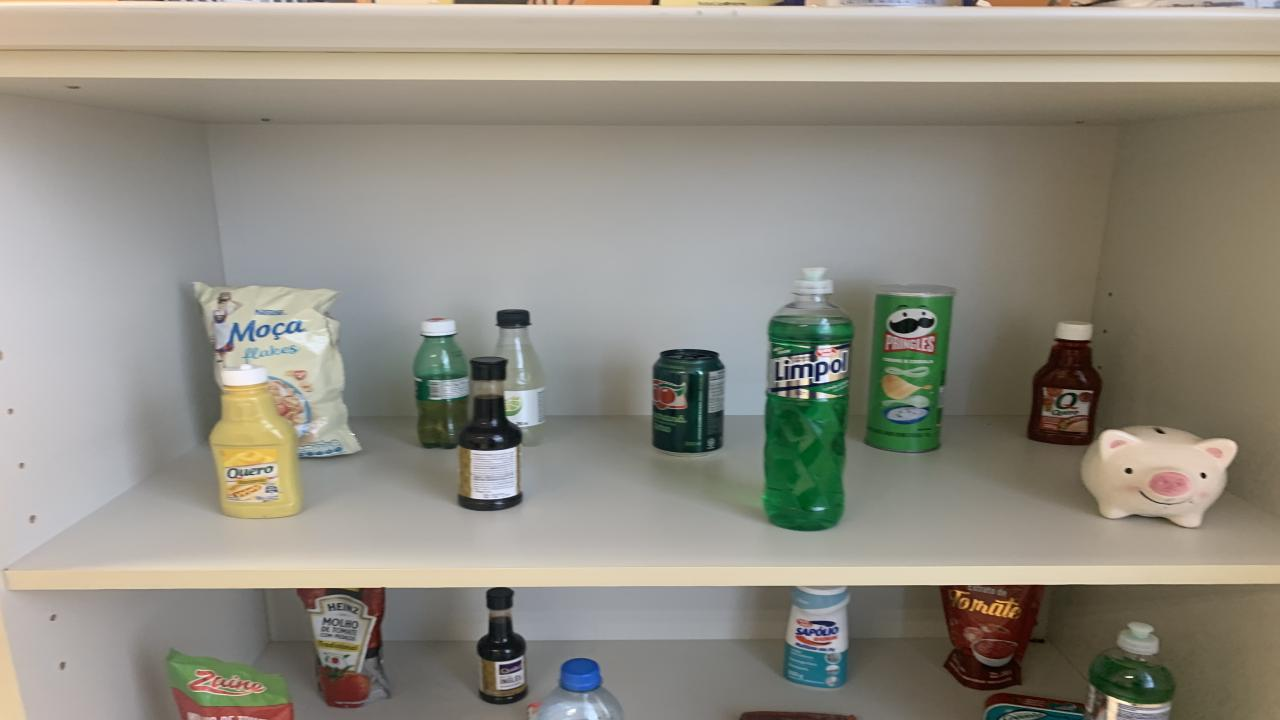Cleaner-Cleanup_Items: (785, 587, 850, 688)
Detergent-Cleanup_Items: (762, 268, 855, 531), (1085, 622, 1175, 720)
English_Sauce-Pantry_Items: (458, 356, 522, 510), (478, 587, 528, 705)
Flakes-Snacks: (195, 283, 360, 456)
Guarana-Drinks: (412, 319, 470, 448)
Guarana_Can-Drinks: (652, 349, 725, 456)
Ketchup-Pantry_Items: (1028, 321, 1102, 444)
Mustard-Pantry_Items: (210, 364, 302, 518)
Pig_Safe-Miscellaneous: (1080, 426, 1238, 527)
Pringles-Snacks: (865, 285, 952, 452)
Soda-Drinks: (495, 309, 545, 446)
Tomato_Sauce-Pantry_Items: (298, 589, 390, 707), (940, 585, 1042, 690), (168, 651, 292, 720)
Tuna_Can-Pantry_Items: (982, 692, 1085, 720)
Water_Bottle-Drinks: (535, 658, 622, 720)
